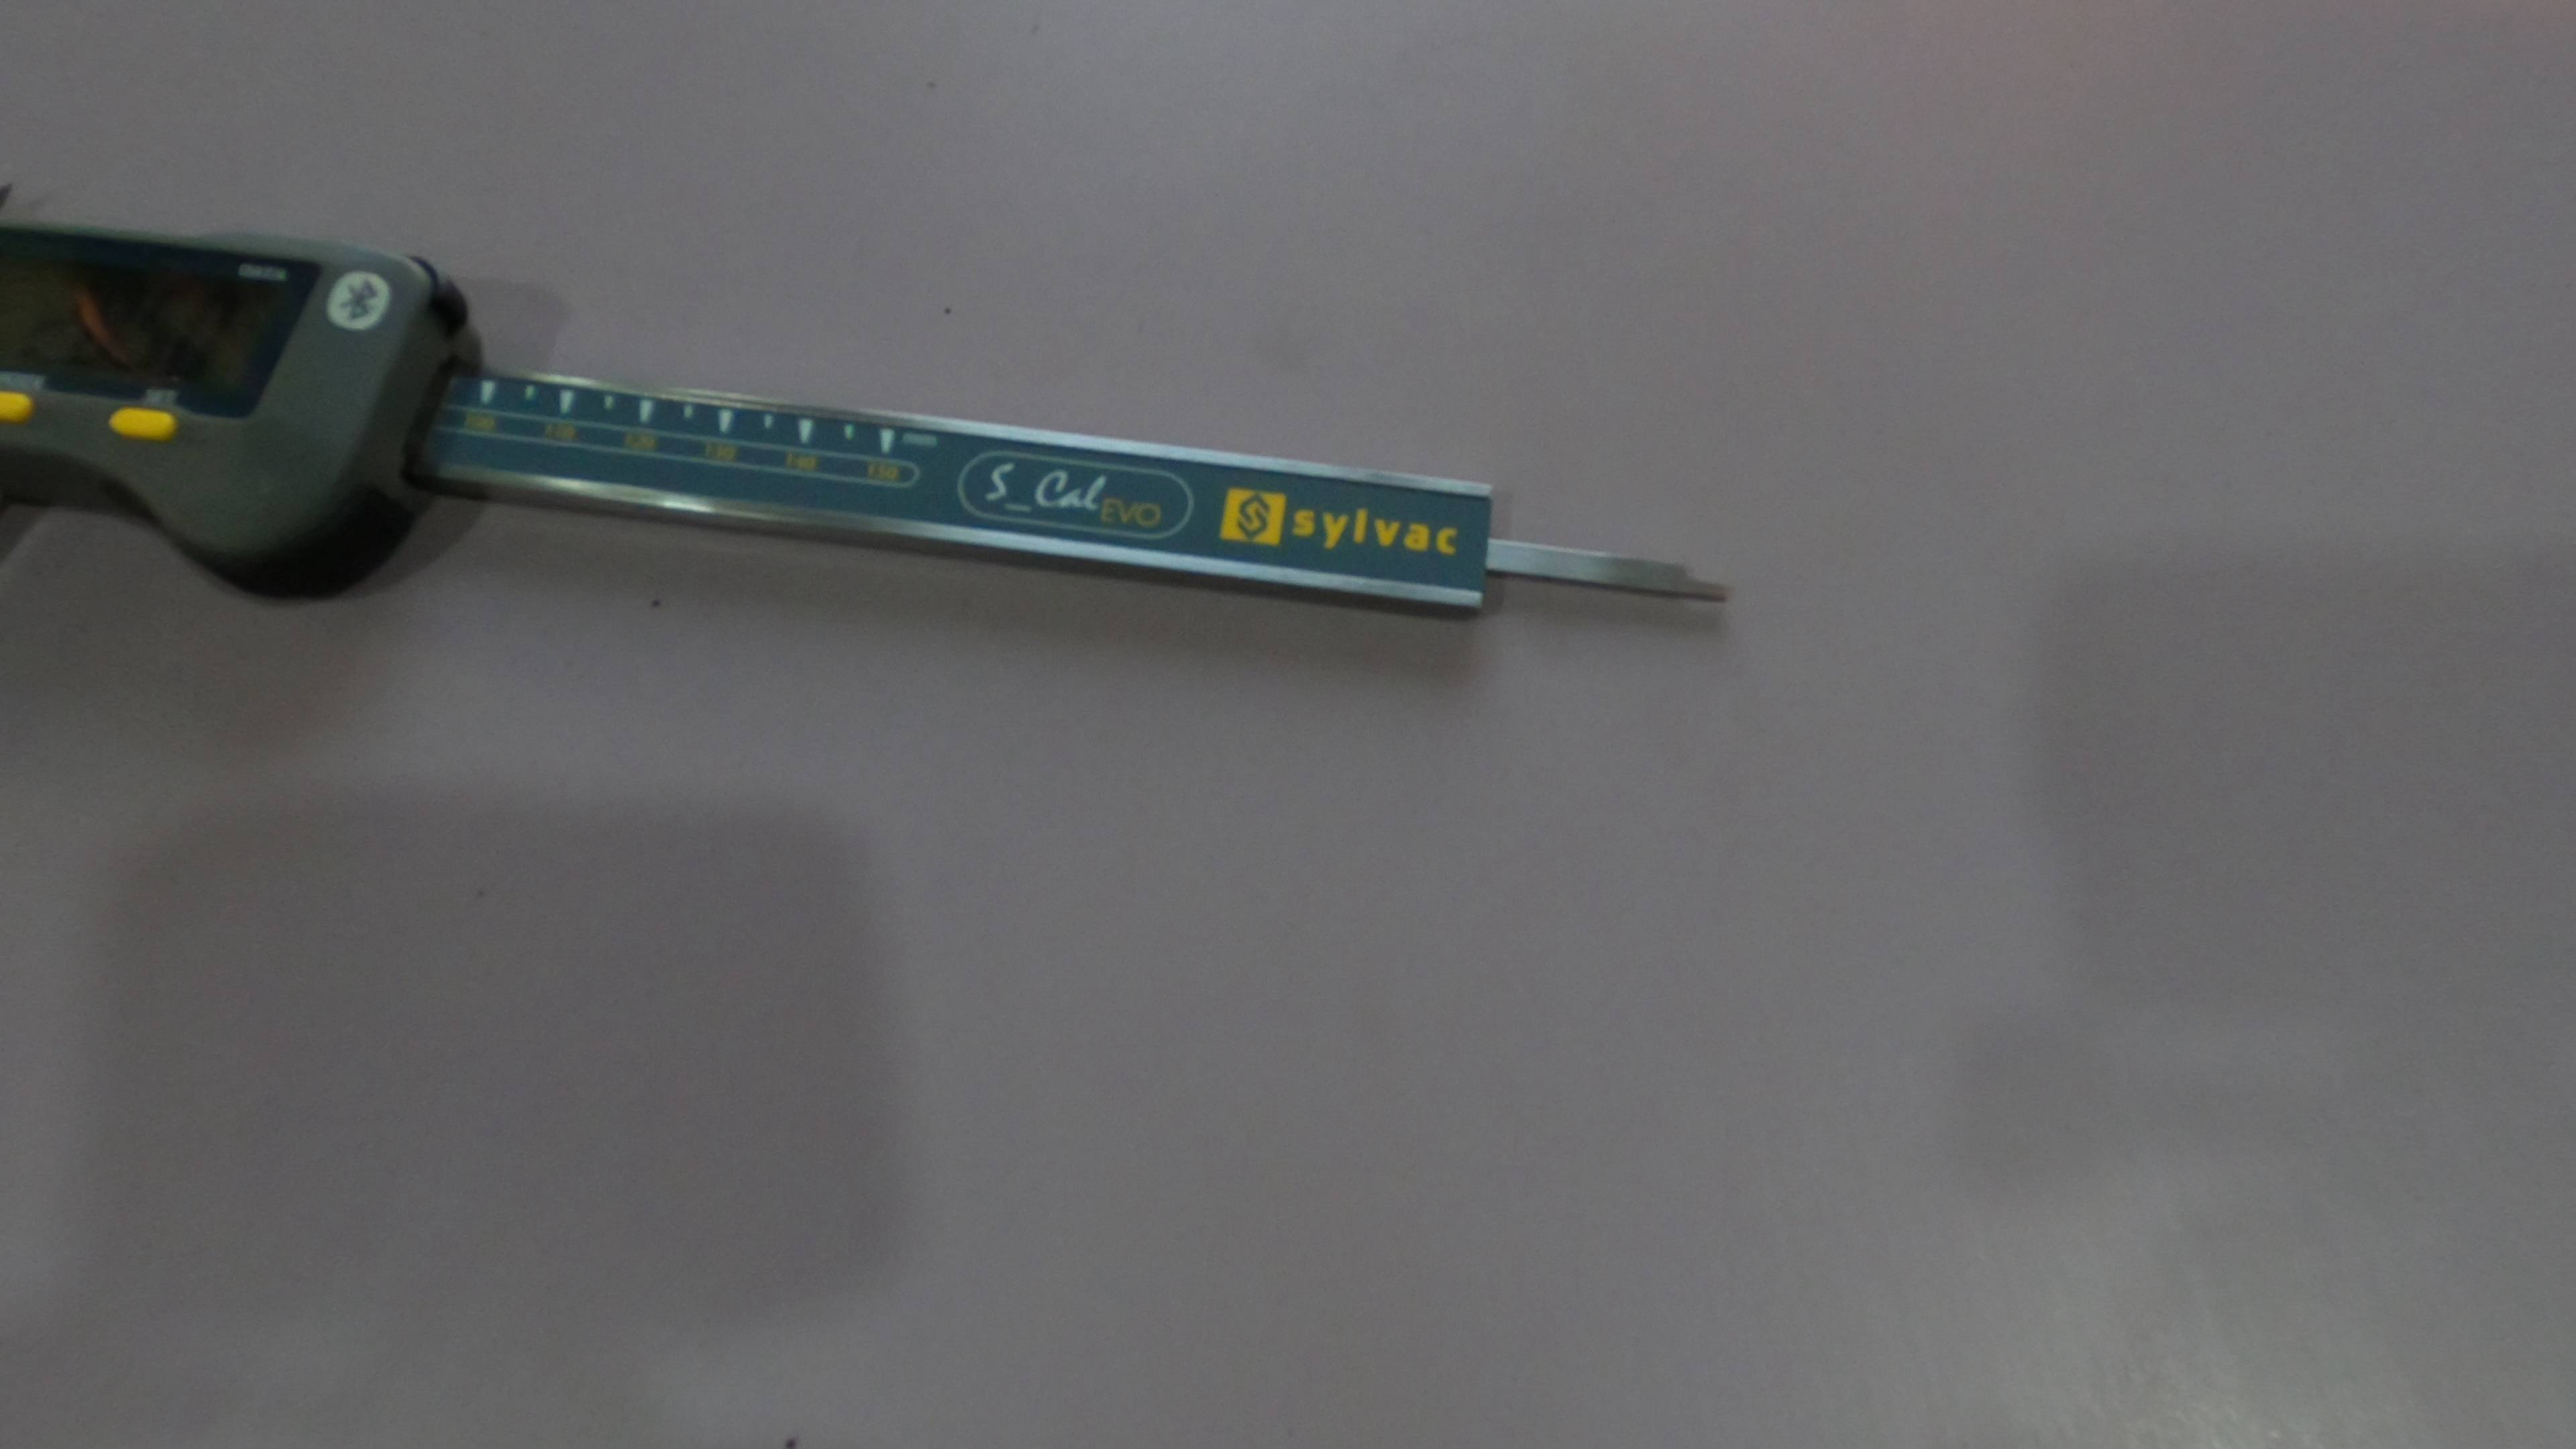vernier_caliper: (4, 177, 1752, 653)
